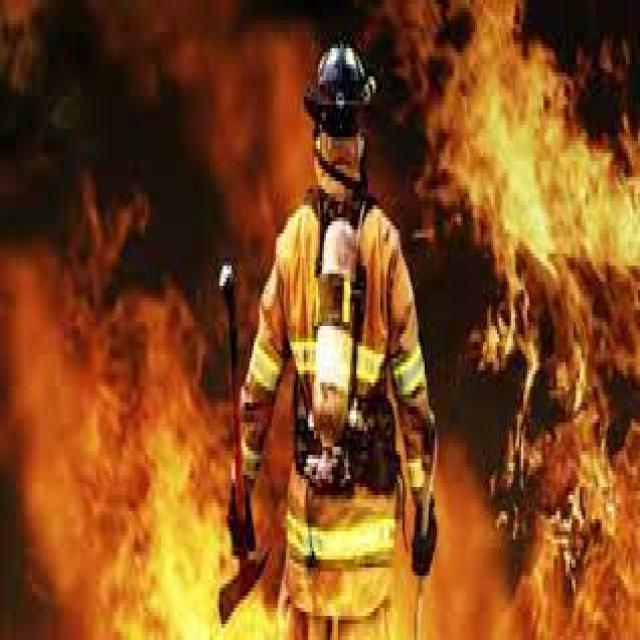Fire: (286, 4, 640, 608), (43, 166, 250, 640), (103, 573, 307, 640)
Smoke: (2, 196, 101, 614)
